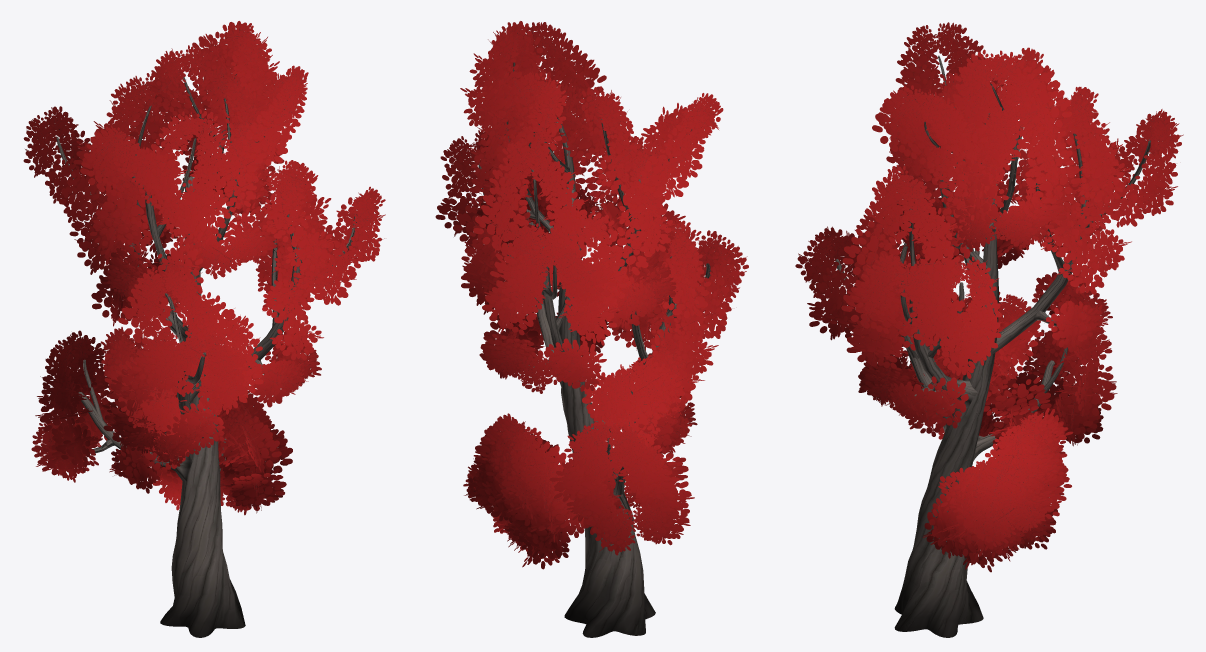
File: tree-late-4-mature.glb
The picture shows the model from 3 angles, left to right: view 1: azimuth 30°, elevation 25°; view 2: azimuth 150°, elevation 25°; view 3: azimuth 270°, elevation 25°; orthographic projection. The views are drawn at different scales.
Visible parts, largest first — view 1: TwistedTree_4; view 2: TwistedTree_4; view 3: TwistedTree_4.
Part boxes in pixels (x1,y1,x2,y2): TwistedTree_4: (23,21,385,637); TwistedTree_4: (435,21,748,637); TwistedTree_4: (795,22,1183,637).
Size of the model in its own units: 3.55 by 6.4 by 3.86.
2 materials, 2 textured.
